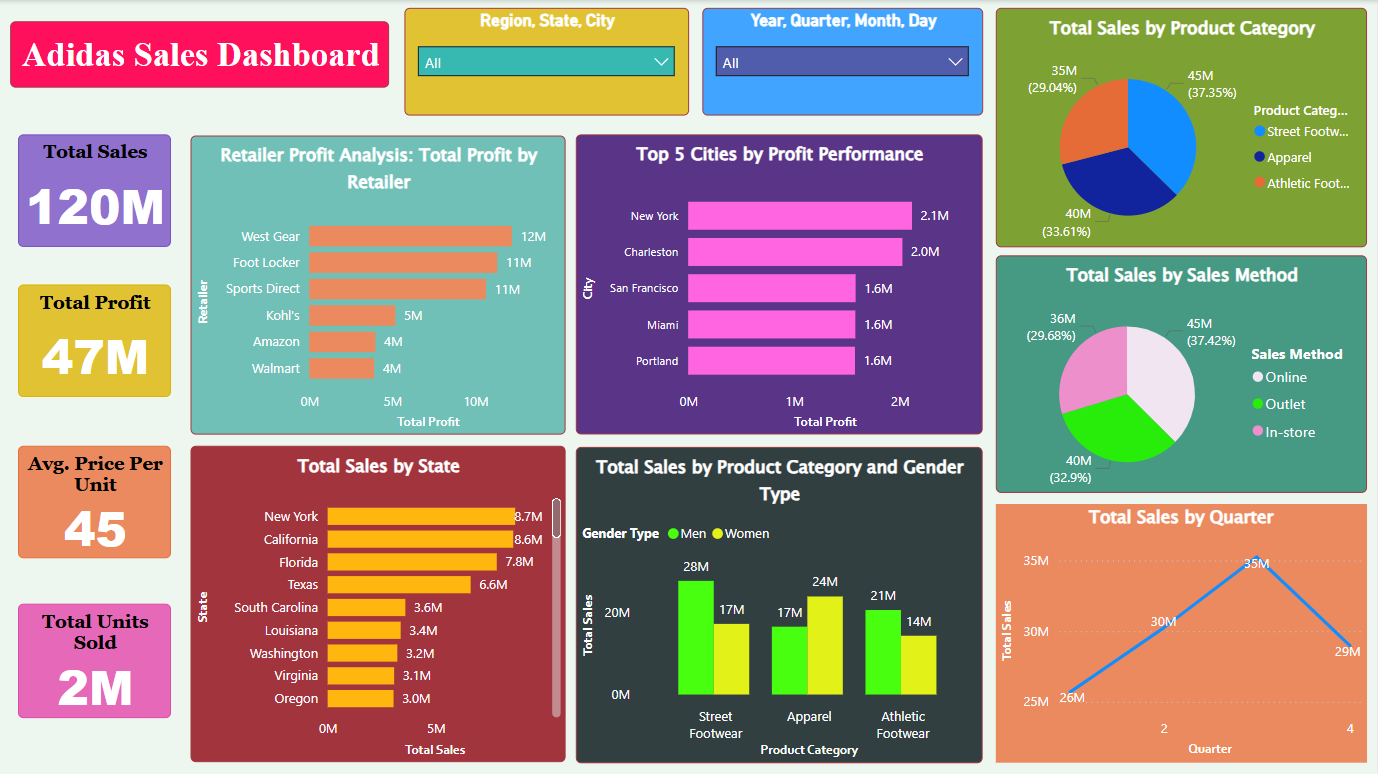

The dashboard page shown, as its layout file describes it:
{"tool":"powerbi","page":{"name":"Adidas Sales Dashboard","canvas":[1280,720],"ordinal":0},"visuals":[{"type":"card","title":"Total Sales","fields":{"Values":["Sum(Table 1 (Sales_details).Total Sales)"]},"box":[18.1,124.6,141.6,104.2],"z":0},{"type":"textbox","box":[10.6,19.5,352,61.2],"z":1000},{"type":"card","title":"Avg. Price Per Unit","fields":{"Values":["Avg(Table 1 (Sales_details).Price per Unit)"]},"box":[18.1,413.6,141.6,104.2],"z":2000},{"type":"card","title":"Total Profit","fields":{"Values":["Sum(Table 1 (Sales_details).Operating Profit)"]},"box":[18.1,264,141.6,104.2],"z":3000},{"type":"card","title":"Total Units Sold","fields":{"Values":["Sum(Table 1 (Sales_details).Units Sold)"]},"box":[18.1,560.9,141.6,106.5],"z":4000},{"type":"barChart","title":"Retailer Profit Analysis: Total Profit by Retailer","fields":{"Category":["Table 1 (Sales_details).Retailer"],"Y":["Sum(Table 1 (Sales_details).Operating Profit)"]},"box":[177.9,125.8,347.9,277.6],"z":5000},{"type":"pieChart","title":"Total Sales by Product Category","fields":{"Category":["Table 1 (Sales_details).Product Category"],"Y":["Sum(Table 1 (Sales_details).Total Sales)"]},"box":[925.8,6.8,344.5,222.1],"z":6000},{"type":"clusteredColumnChart","title":"Total Sales by Product Category and Gender Type","fields":{"Category":["Table 1 (Sales_details).Product Category"],"Series":["Table 1 (Sales_details).Gender Type"],"Y":["Sum(Table 1 (Sales_details).Total Sales)"]},"box":[536,414.7,377.3,293.5],"z":7000},{"type":"pieChart","title":"Total Sales by Sales Method","fields":{"Category":["Table 1 (Sales_details).Sales Method"],"Y":["Sum(Table 1 (Sales_details).Total Sales)"]},"box":[925.8,236.8,344.5,221],"z":8000},{"type":"barChart","title":"Total Sales by State","fields":{"Category":["Sales_details.State"],"Y":["Sum(Sales_details.Total Sales)"]},"box":[177.9,413.6,347.9,293.5],"z":9000},{"type":"clusteredBarChart","title":"Top 5 Cities by Profit Performance","fields":{"Category":["Sales_details.City"],"Y":["Sum(Sales_details.Operating Profit)"]},"box":[536,124.6,377.3,278.7],"z":10000},{"type":"areaChart","title":"Total Sales by Quarter","fields":{"Category":["Sales_details.Quarter"],"Y":["Sum(Sales_details.Total Sales)"]},"box":[925.8,468,344.5,240.2],"z":11000},{"type":"slicer","title":"Region, State, City","fields":{"Values":["Sales_details.Region Hierarchy.Region","Sales_details.Region Hierarchy.State","Sales_details.Region Hierarchy.City"]},"box":[376.2,6.8,264,99.7],"z":12000},{"type":"slicer","title":"Year, Quarter, Month, Day","fields":{"Values":["Sales_details.Invoice Date Hierarchy.Year","Sales_details.Invoice Date Hierarchy.Quarter","Sales_details.Invoice Date Hierarchy.Month","Sales_details.Invoice Date Hierarchy.Day"]},"box":[652.7,6.8,260.6,99.7],"z":13000}]}

Visuals, with their boxes in screenshot pixels (x1, y1, x2, y2), scaled from the page's 1280x720 canvas onto the 1378x774 screenshot:
"Total Sales" card: {"x1": 19, "y1": 134, "x2": 172, "y2": 246}
textbox: {"x1": 11, "y1": 21, "x2": 390, "y2": 87}
"Avg. Price Per Unit" card: {"x1": 19, "y1": 445, "x2": 172, "y2": 557}
"Total Profit" card: {"x1": 19, "y1": 284, "x2": 172, "y2": 396}
"Total Units Sold" card: {"x1": 19, "y1": 603, "x2": 172, "y2": 717}
"Retailer Profit Analysis: Total Profit by Retailer" barChart: {"x1": 192, "y1": 135, "x2": 566, "y2": 434}
"Total Sales by Product Category" pieChart: {"x1": 997, "y1": 7, "x2": 1368, "y2": 246}
"Total Sales by Product Category and Gender Type" clusteredColumnChart: {"x1": 577, "y1": 446, "x2": 983, "y2": 761}
"Total Sales by Sales Method" pieChart: {"x1": 997, "y1": 255, "x2": 1368, "y2": 492}
"Total Sales by State" barChart: {"x1": 192, "y1": 445, "x2": 566, "y2": 760}
"Top 5 Cities by Profit Performance" clusteredBarChart: {"x1": 577, "y1": 134, "x2": 983, "y2": 434}
"Total Sales by Quarter" areaChart: {"x1": 997, "y1": 503, "x2": 1368, "y2": 761}
"Region, State, City" slicer: {"x1": 405, "y1": 7, "x2": 689, "y2": 114}
"Year, Quarter, Month, Day" slicer: {"x1": 703, "y1": 7, "x2": 983, "y2": 114}
